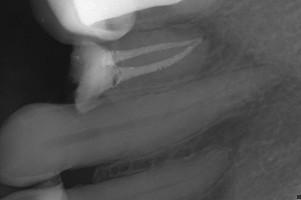Furcation Involvement: (195, 117, 250, 162), (164, 14, 222, 52)
